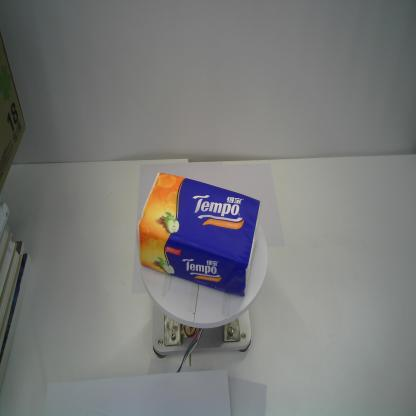Tissue: (135, 168, 261, 300)
